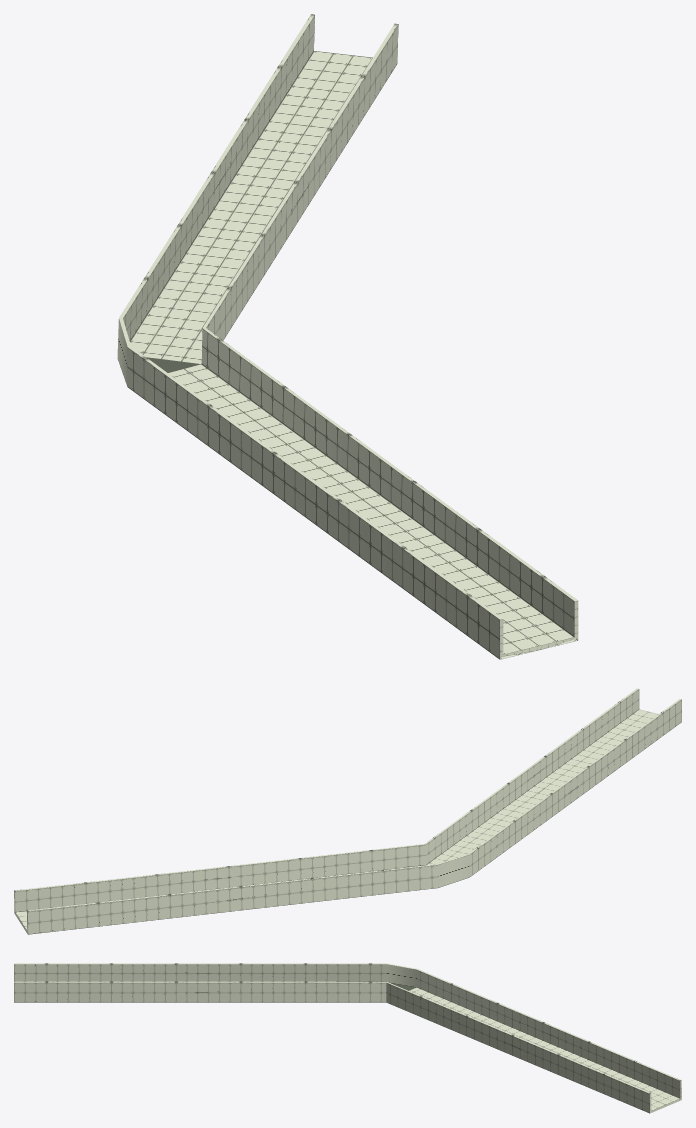
Rendered from SUTE2.fbx.
3 views of the same model, one above another, from view 1: azimuth 30°, elevation 25°; view 2: azimuth 150°, elevation 25°; view 3: azimuth 270°, elevation 25° (orthographic). The views are drawn at different scales.
Parts seen in each view (by area): view 1: ST1; view 2: ST1; view 3: ST1.
Boxes of the visible parts, x1=… form: ST1: x1=117, y1=14, x2=578, y2=659; ST1: x1=14, y1=688, x2=681, y2=934; ST1: x1=14, y1=963, x2=681, y2=1113.
Size of the model in its own units: 4142 by 297 by 8969.
Materials: 1 (1 with a texture image).
